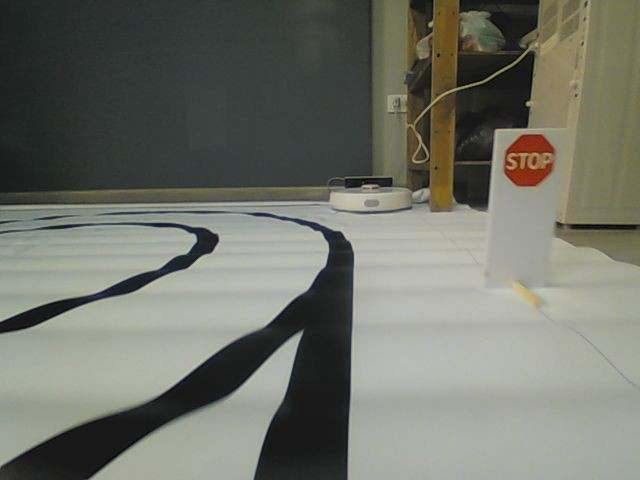Stop: (502, 133, 556, 188)
